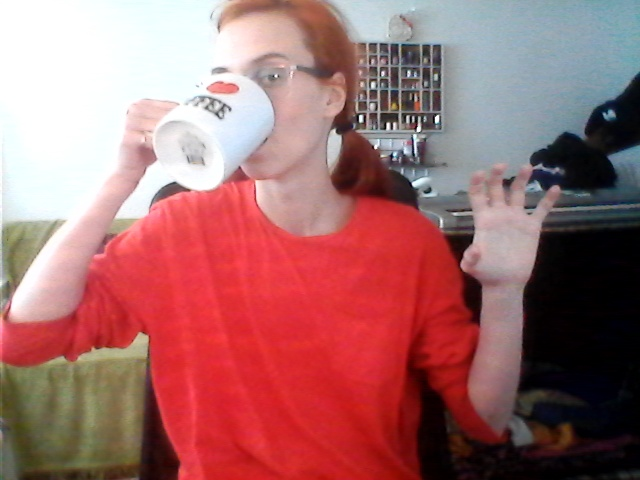budova: (444, 155, 566, 310)
